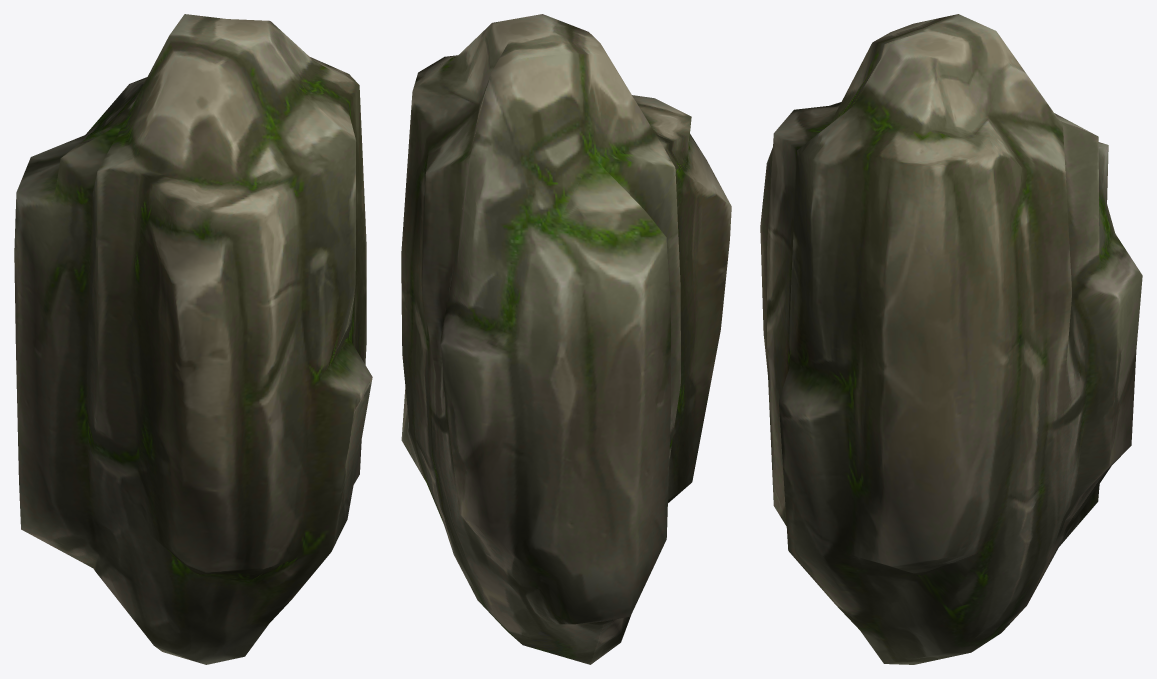
Rendered from RockFormation_4_2 (5).fbx.
3 views of the same model, side by side, from view 1: azimuth 30°, elevation 25°; view 2: azimuth 150°, elevation 25°; view 3: azimuth 270°, elevation 25° (orthographic). The views are drawn at different scales.
Parts seen in each view (by area): view 1: RockFormation_4_2 (5); view 2: RockFormation_4_2 (5); view 3: RockFormation_4_2 (5).
Boxes of the visible parts, <box> form: RockFormation_4_2 (5): <box>14,14,372,664</box>; RockFormation_4_2 (5): <box>401,14,731,664</box>; RockFormation_4_2 (5): <box>760,14,1142,664</box>.
Bounding box in the file's own units: 68.47 × 140 × 75.37.
1 material, 1 textured.
